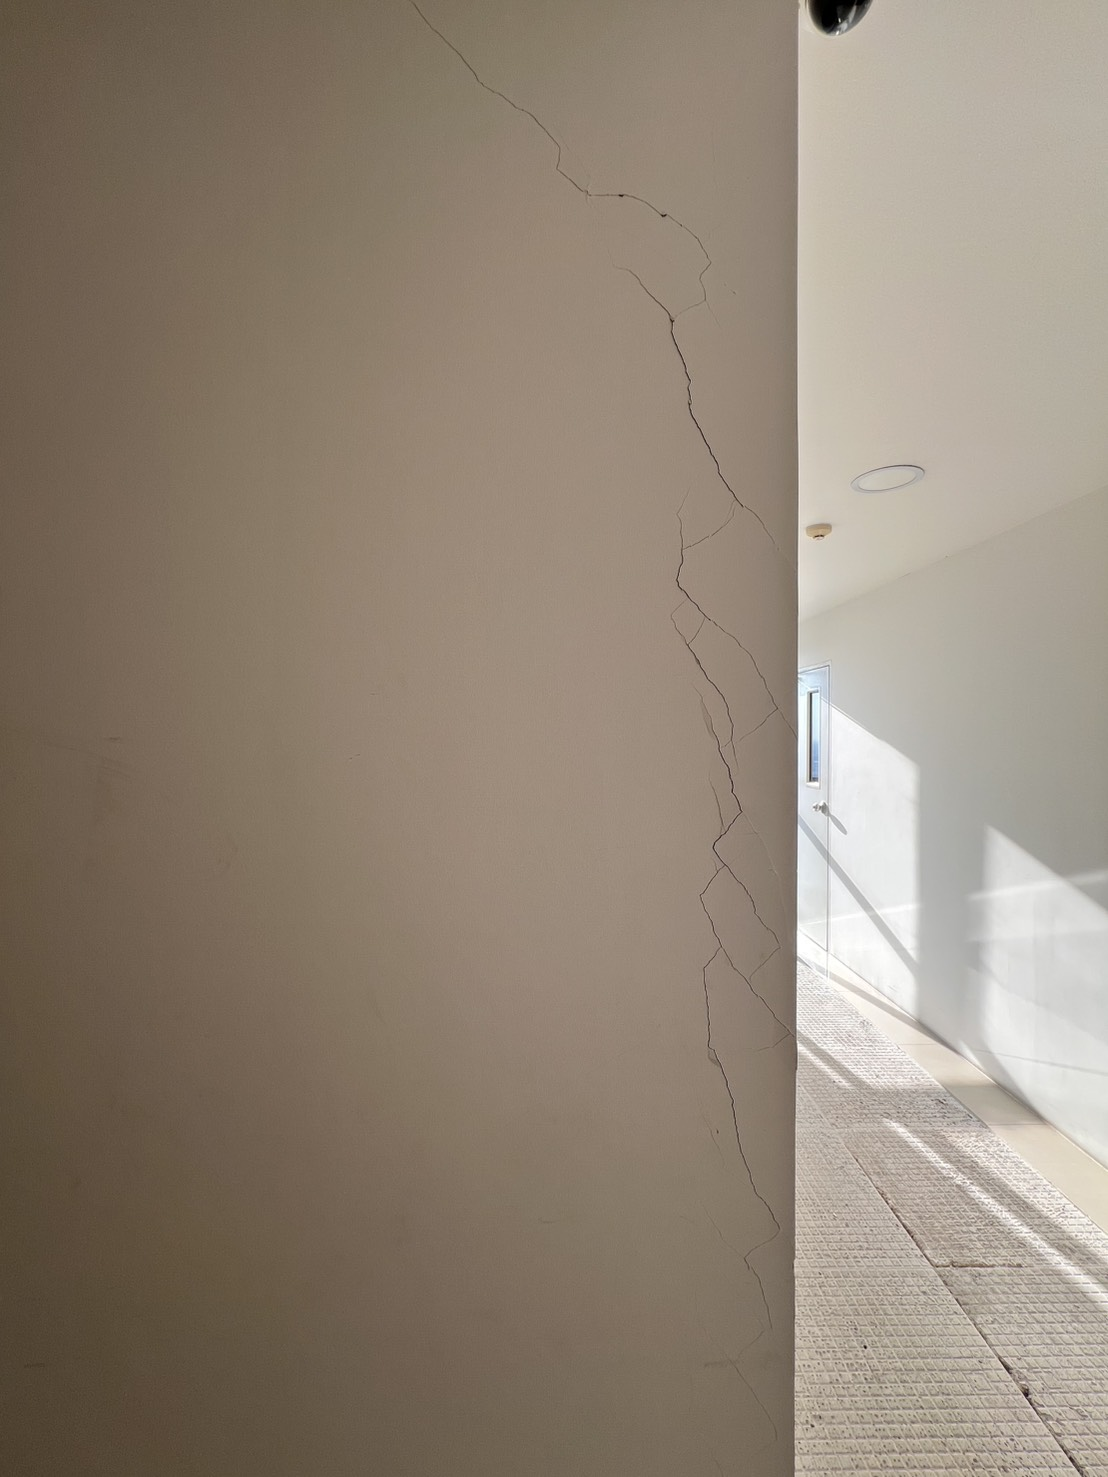Low: (388, 5, 798, 1477)
